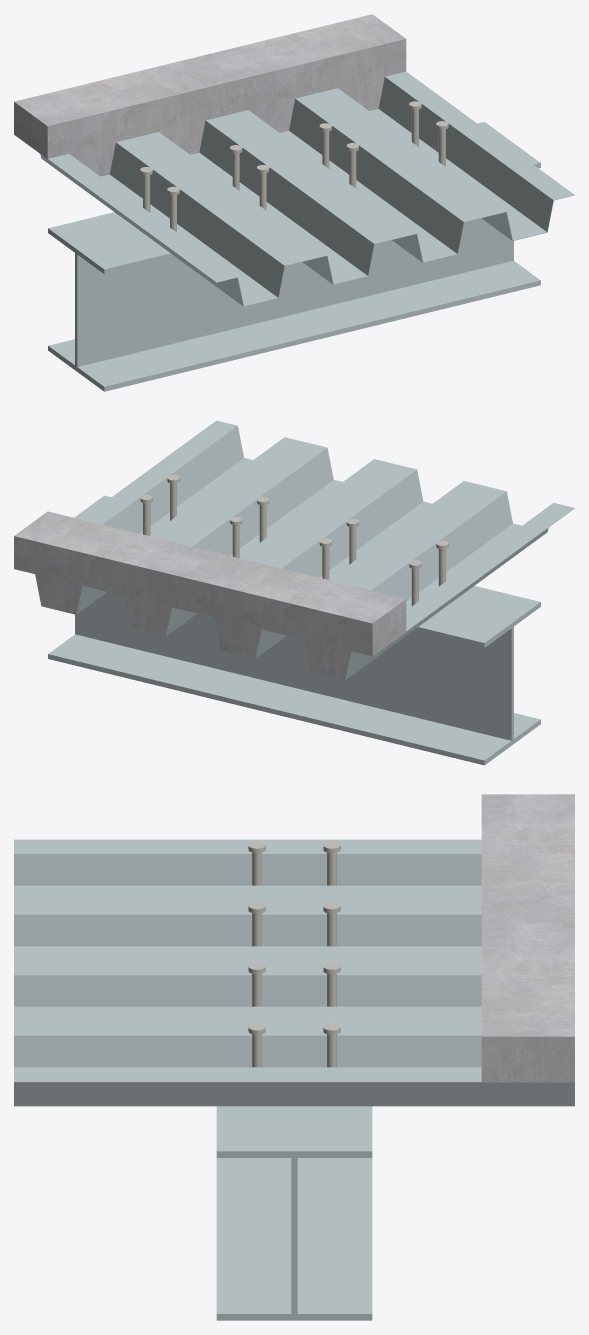
The model's file is profiled-steel-composite-slab.glb.
3 renders of one model, top to bottom at view 1: azimuth 30°, elevation 25°; view 2: azimuth 150°, elevation 25°; view 3: azimuth 270°, elevation 25°, orthographic. The views are drawn at different scales.
Parts seen in each view (by area): view 1: 压型钢板, 焊接H形钢梁, 混凝土, 抗剪栓钉; view 2: 压型钢板, 焊接H形钢梁, 混凝土, 抗剪栓钉; view 3: 压型钢板, 焊接H形钢梁, 混凝土, 抗剪栓钉.
Boxes of the visible parts, bbox=[...] form: 压型钢板: bbox=[14, 71, 574, 306]; 焊接H形钢梁: bbox=[48, 122, 540, 391]; 混凝土: bbox=[14, 14, 406, 176]; 抗剪栓钉: bbox=[140, 101, 448, 232]; 压型钢板: bbox=[14, 420, 574, 680]; 焊接H形钢梁: bbox=[48, 495, 540, 765]; 混凝土: bbox=[14, 511, 406, 679]; 抗剪栓钉: bbox=[140, 475, 448, 605]; 压型钢板: bbox=[14, 839, 574, 1106]; 焊接H形钢梁: bbox=[216, 1106, 372, 1320]; 混凝土: bbox=[481, 794, 574, 1081]; 抗剪栓钉: bbox=[248, 841, 340, 1067].
Size of what is drawn, in the model's own units: 1.12 by 0.456 by 0.9.
3 materials, 1 textured.
